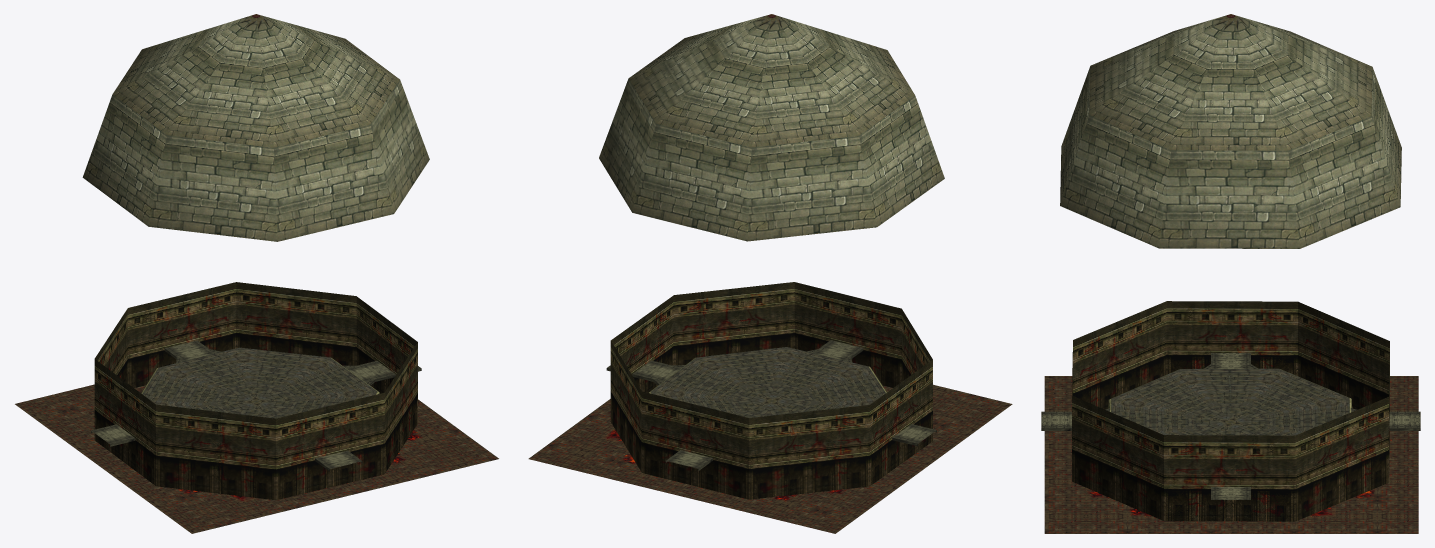
The model's file is DAJIAN_tading.fbx.
The picture shows the model from 3 angles, left to right: view 1: azimuth 30°, elevation 25°; view 2: azimuth 150°, elevation 25°; view 3: azimuth 270°, elevation 25°; orthographic projection. The views are drawn at different scales.
Visible parts, largest first — view 1: polySurface245, polySurface244, pPlane3, pCylinder3, pCube34, pCube33, pCube32; view 2: polySurface245, polySurface244, pPlane3, pCylinder3, pCube34, pCube35, pCube32; view 3: polySurface245, polySurface244, pPlane3, pCylinder3, pCube32, pCube33, pCube35, pCube34.
Part boxes in pixels (x1=…): polySurface245: x1=82, y1=14, x2=429, y2=241; polySurface244: x1=94, y1=282, x2=417, y2=500; pPlane3: x1=15, y1=384, x2=498, y2=533; pCylinder3: x1=141, y1=347, x2=379, y2=418; pCube34: x1=342, y1=361, x2=421, y2=385; pCube33: x1=164, y1=340, x2=221, y2=363; pCube32: x1=91, y1=424, x2=135, y2=446; polySurface245: x1=599, y1=14, x2=944, y2=241; polySurface244: x1=610, y1=282, x2=932, y2=499; pPlane3: x1=528, y1=384, x2=1012, y2=533; pCylinder3: x1=648, y1=347, x2=886, y2=417; pCube34: x1=606, y1=360, x2=685, y2=385; pCube35: x1=807, y1=340, x2=863, y2=362; pCube32: x1=892, y1=424, x2=936, y2=446; polySurface245: x1=1060, y1=14, x2=1401, y2=248; polySurface244: x1=1072, y1=301, x2=1389, y2=521; pPlane3: x1=1044, y1=376, x2=1418, y2=533; pCylinder3: x1=1108, y1=368, x2=1352, y2=435; pCube32: x1=1203, y1=353, x2=1258, y2=368; pCube33: x1=1351, y1=408, x2=1420, y2=430; pCube35: x1=1041, y1=408, x2=1109, y2=430; pCube34: x1=1211, y1=487, x2=1250, y2=499.
Bounding box in the file's own units: 64 × 83.16 × 64.
